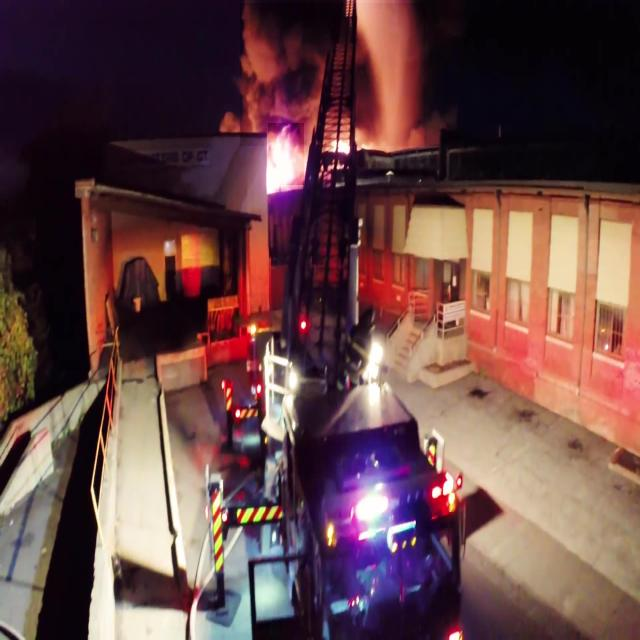Fire: (268, 124, 304, 186)
Smoke: (240, 3, 426, 146)
